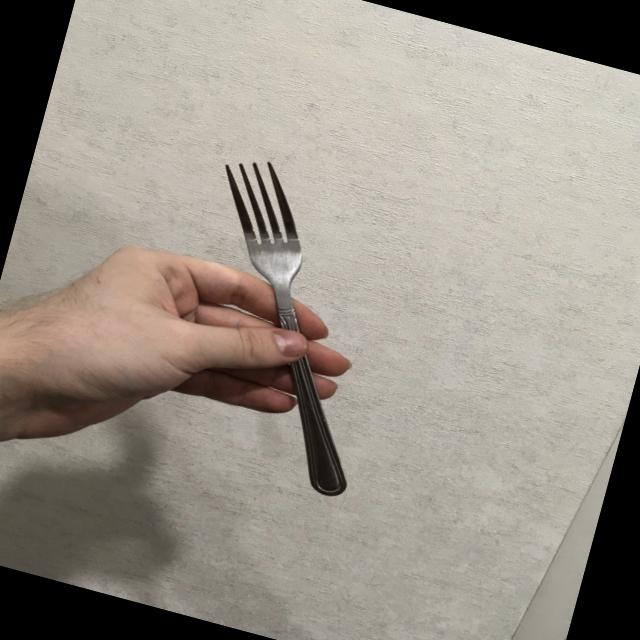fork: (145, 150, 423, 500)
